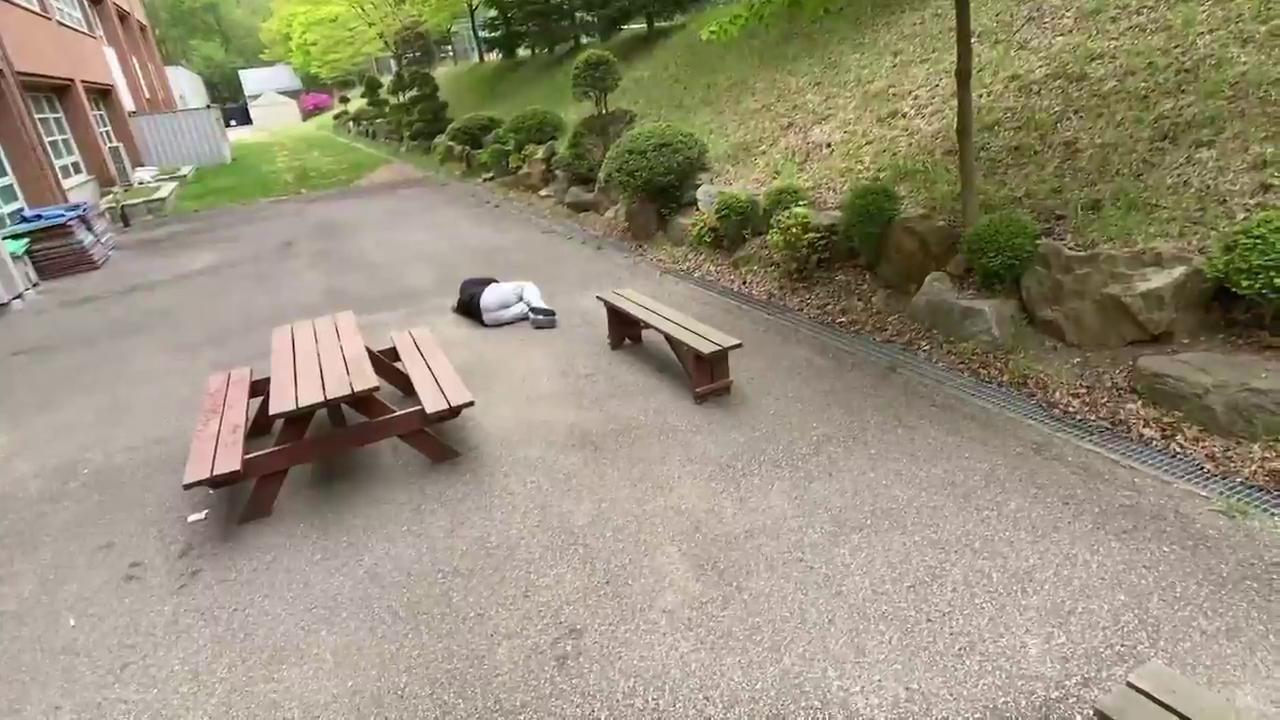faint: (449, 275, 560, 334)
